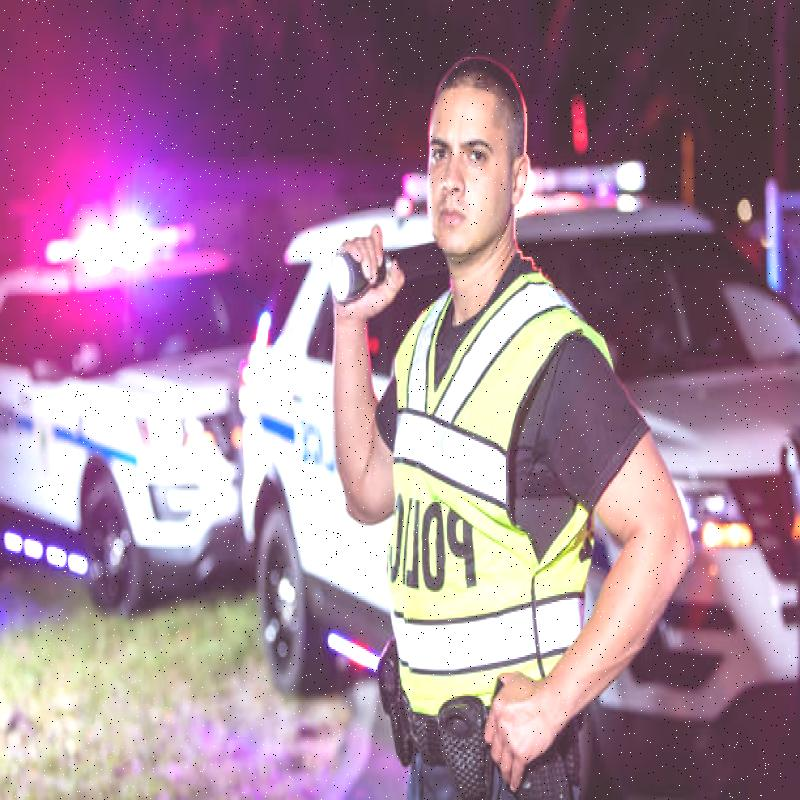AmbulanceSiren: (47, 211, 204, 284)
